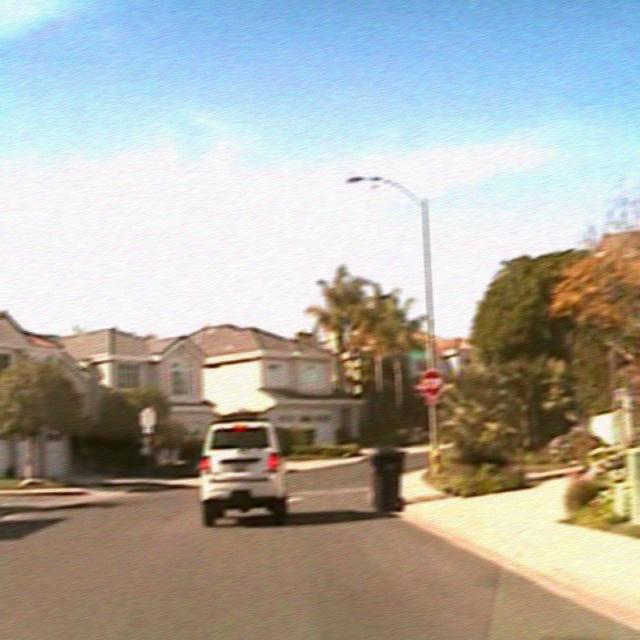stop: (421, 366, 444, 398)
